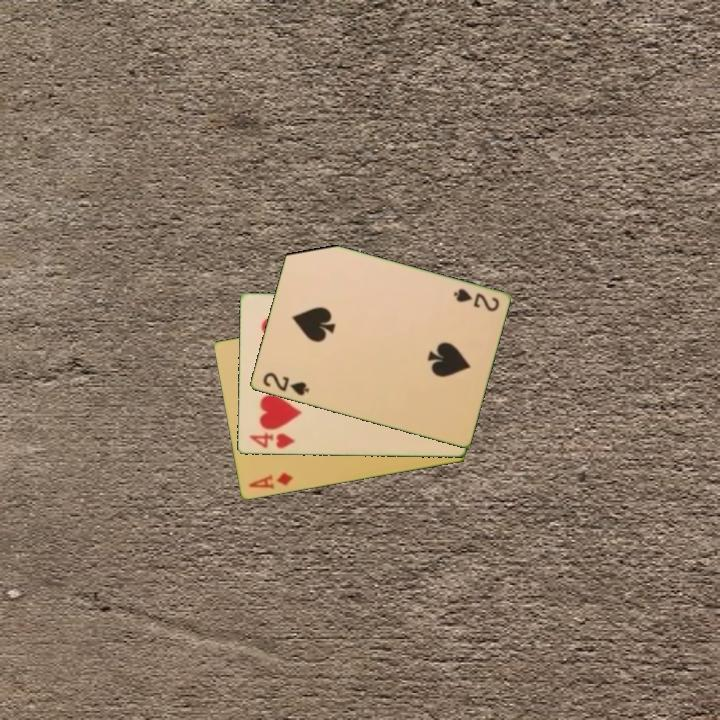2s: (259, 369, 312, 399), (449, 285, 502, 315)
4h: (245, 429, 298, 451)
Ad: (245, 469, 296, 492)
